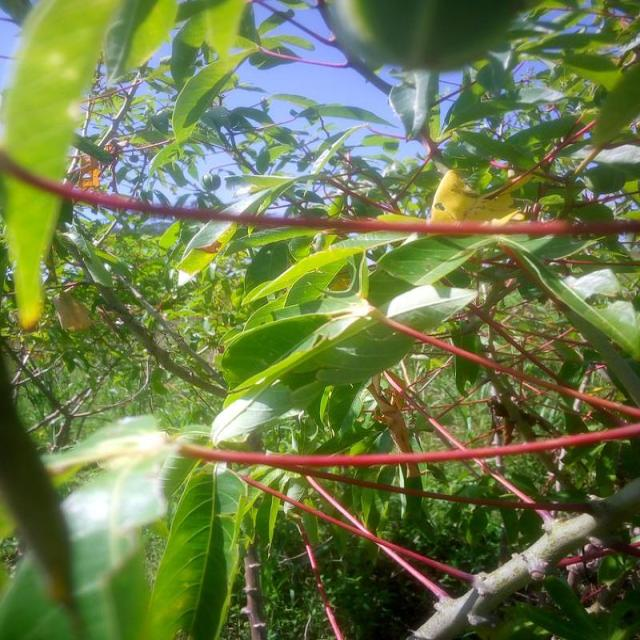cassava leaf: (142, 461, 248, 638)
